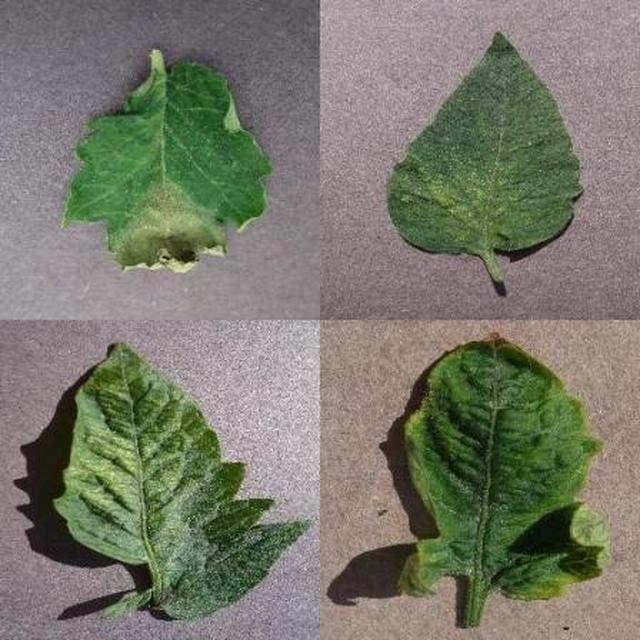Late Blight Leaf: (237, 202, 640, 640)
